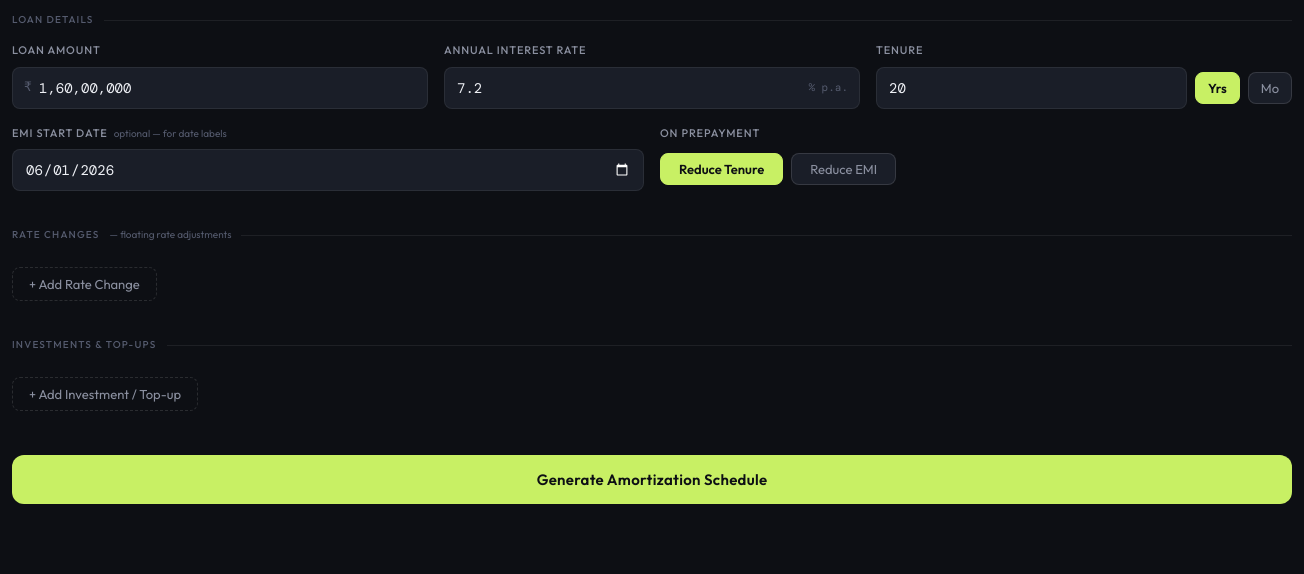
Test: AmortizationPage — validation › shows error when interest rate is cleared
Clear the number field showing "7.2" next to "% p.a." at (652, 88), box top-left (444, 67), bottom-right (860, 109)
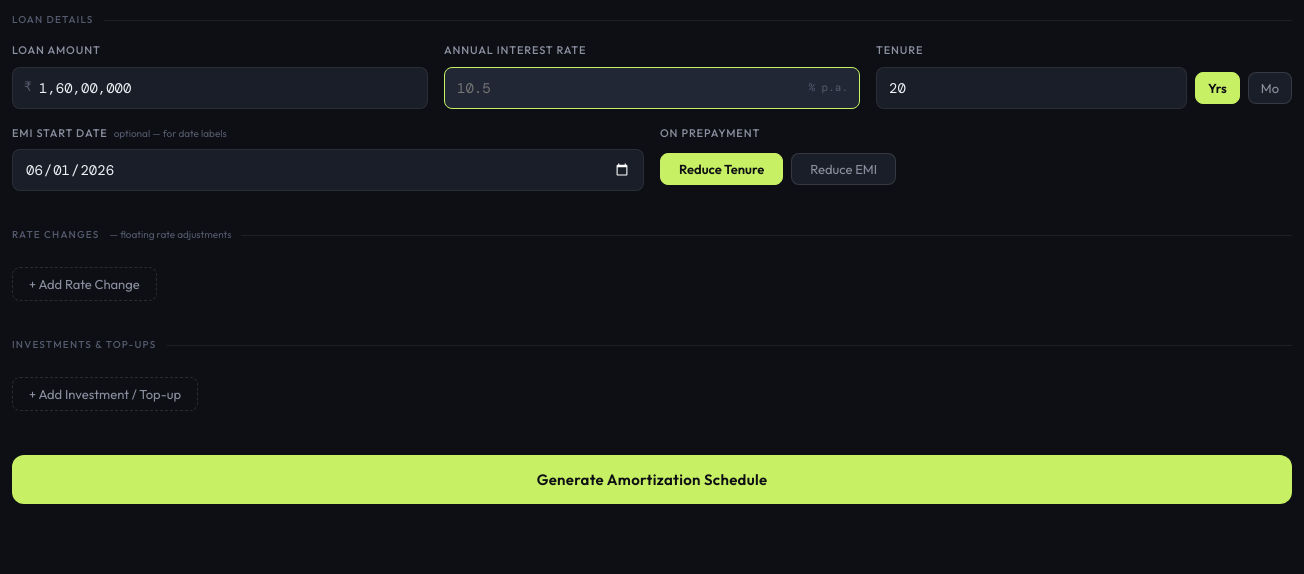
Click the button "Generate Amortization Schedule" at (652, 480), box top-left (12, 455), bottom-right (1292, 504)
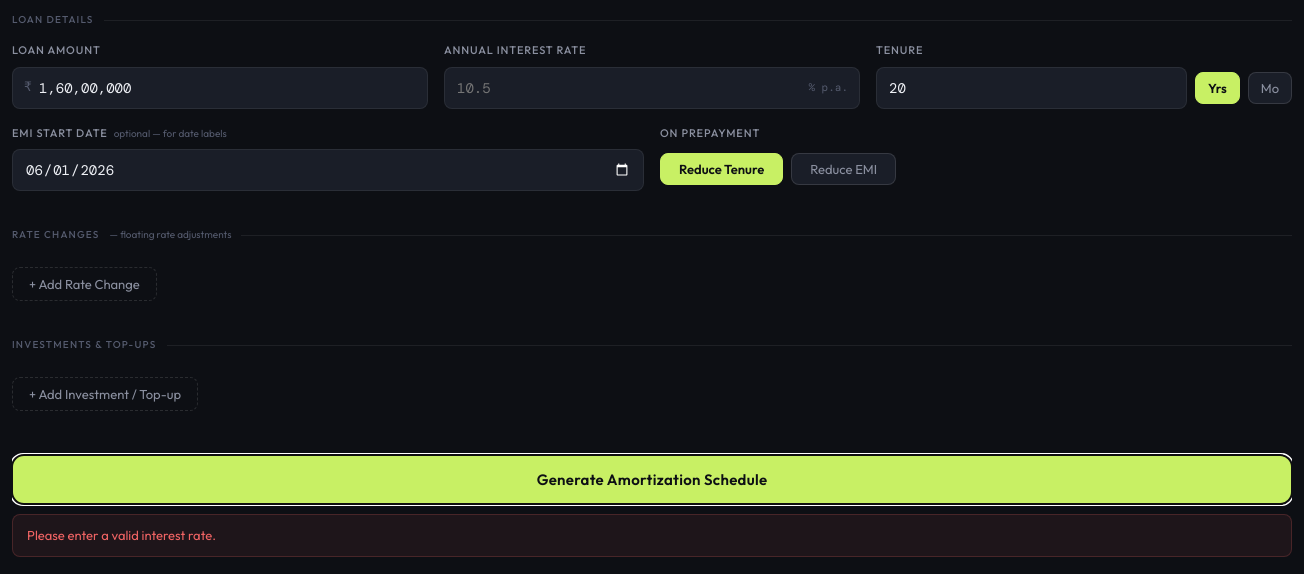
expect the text "Please enter a valid interest rate." is shown: met, box top-left (12, 514), bottom-right (1292, 557)
